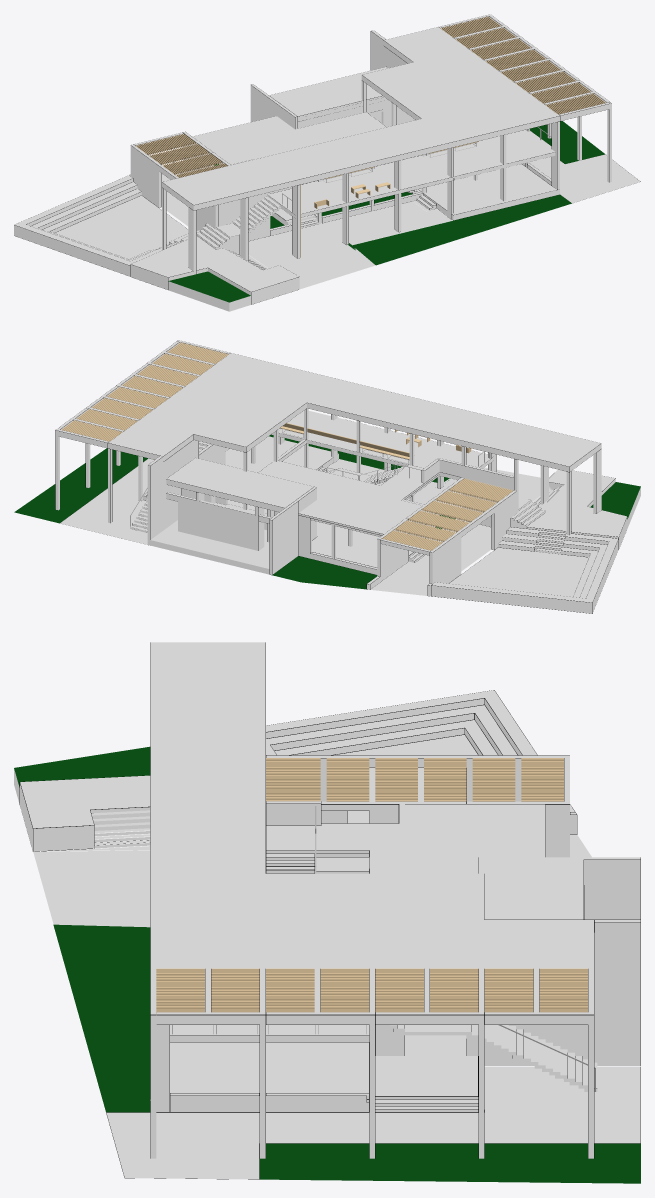
File: canteen_borders.glb
3 views of the same model, one above another, from view 1: azimuth 30°, elevation 25°; view 2: azimuth 150°, elevation 25°; view 3: azimuth 270°, elevation 25° (orthographic). The views are drawn at different scales.
Visible parts, largest first — view 1: group_105, group_1, group_82, group_108, group_155, group_0.008, group_0.039, group_32, group_0.024, group_37, group_106, group_0.023 (+18 smaller); view 2: group_105, group_1, group_155, group_82, group_32, group_0.008, group_144, group_0.032, group_0.024, group_37, group_106, group_0.007 (+14 smaller); view 3: group_105, group_0.024, group_1, group_0.008, group_0.032, group_155, group_0.039, group_108, group_37, group_32, instance_9.003, instance_9 (+14 smaller).
Part boxes in pixels (<box>): group_105: <box>162,27,559,210</box>; group_1: <box>14,175,299,304</box>; group_82: <box>267,130,555,218</box>; group_108: <box>226,201,452,289</box>; group_155: <box>192,112,386,184</box>; group_0.008: <box>272,153,559,225</box>; group_0.039: <box>348,194,571,265</box>; group_32: <box>269,66,387,121</box>; group_0.024: <box>522,154,640,203</box>; group_37: <box>297,30,415,128</box>; group_106: <box>129,144,213,230</box>; group_0.023: <box>168,271,250,302</box>; group_105: <box>108,353,601,472</box>; group_1: <box>431,469,627,613</box>; group_155: <box>258,460,439,535</box>; group_82: <box>199,410,494,480</box>; group_32: <box>166,458,313,512</box>; group_0.008: <box>143,436,425,567</box>; group_144: <box>166,492,264,550</box>; group_0.032: <box>14,448,147,523</box>; group_0.024: <box>60,458,153,544</box>; group_37: <box>147,440,227,545</box>; group_106: <box>427,490,516,596</box>; group_0.007: <box>150,520,269,574</box>; group_105: <box>150,642,594,968</box>; group_0.024: <box>106,1066,640,1179</box>; group_1: <box>19,690,575,851</box>; group_0.008: <box>150,1035,478,1112</box>; group_0.032: <box>259,1143,640,1183</box>; group_155: <box>266,804,545,873</box>; group_0.039: <box>53,924,150,1112</box>; group_108: <box>33,810,150,927</box>; group_37: <box>466,919,640,1065</box>; group_32: <box>478,859,583,919</box>; instance_9.003: <box>156,968,375,1158</box>; instance_9: <box>375,968,594,1158</box>.
Size of the model in its own units: 45.58 by 6.6 by 25.5.
